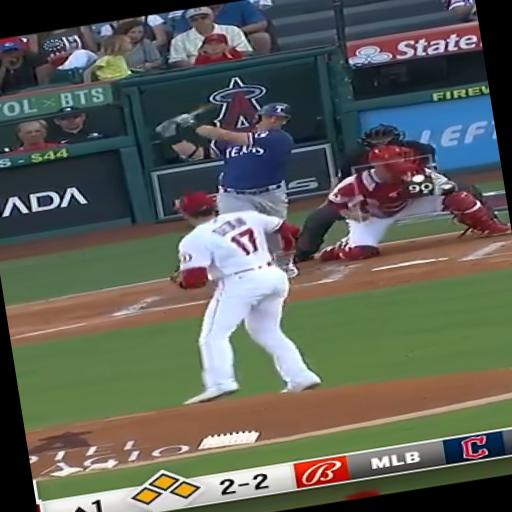bat: (156, 114, 182, 132)
